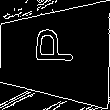P_W: (32, 35, 78, 73)
